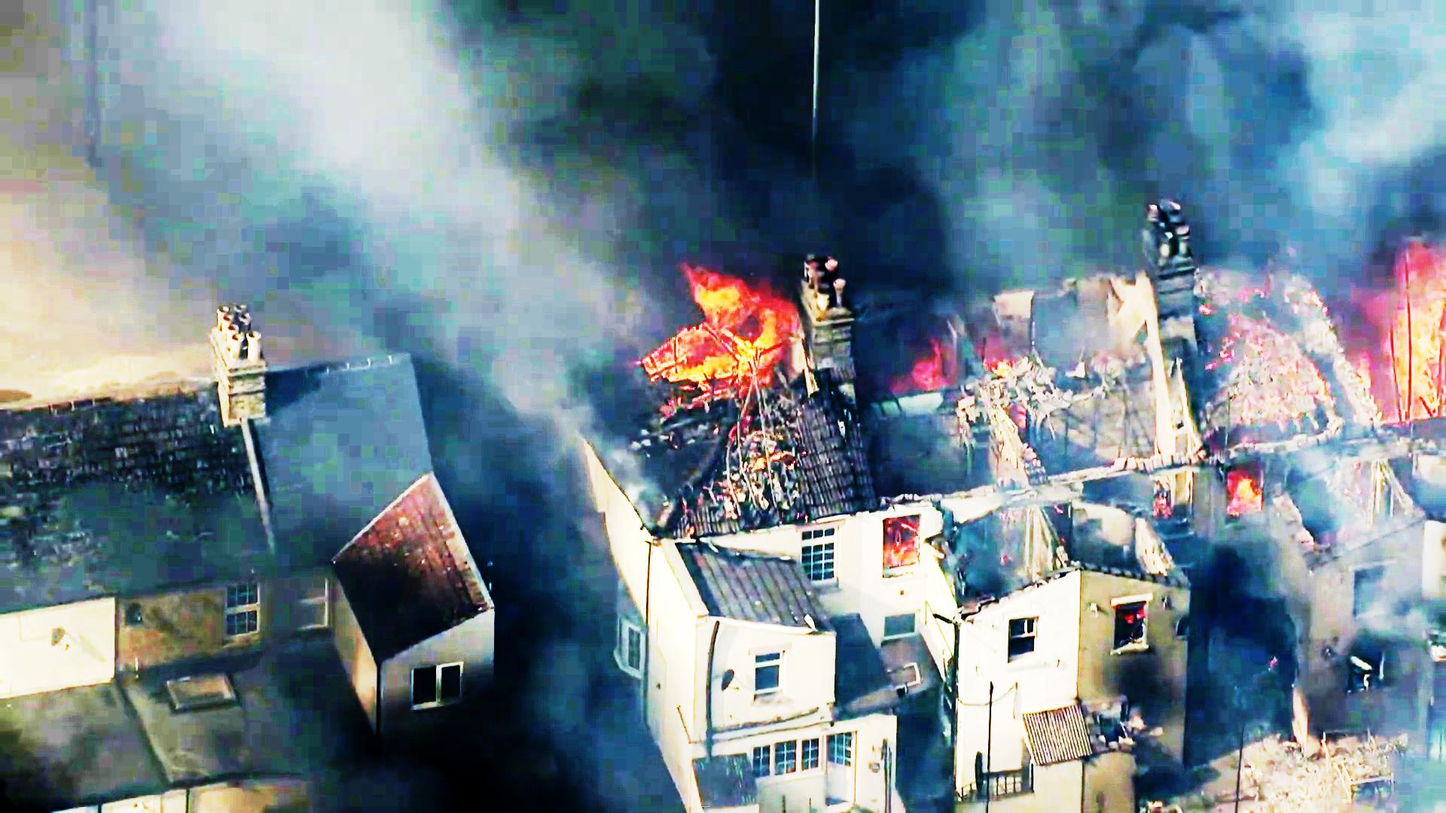fire: (650, 258, 807, 409), (1356, 266, 1446, 434)
smoke: (40, 11, 578, 243)
